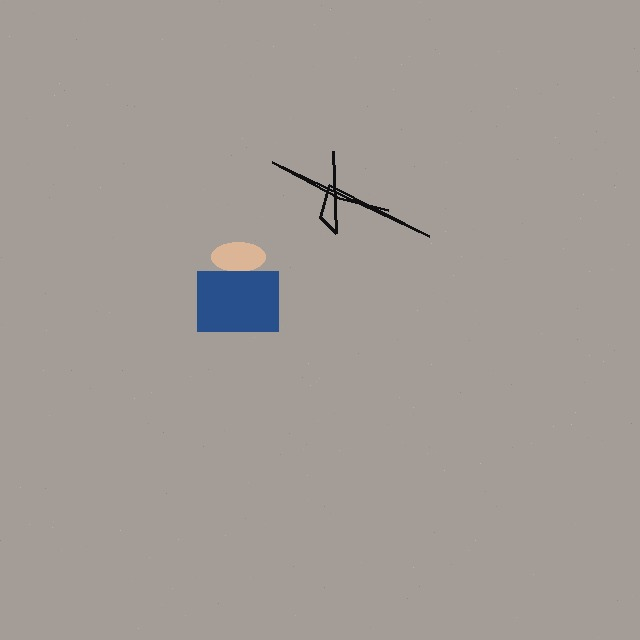crocodile_crack: (270, 84, 472, 286)
person: (157, 242, 319, 331)
